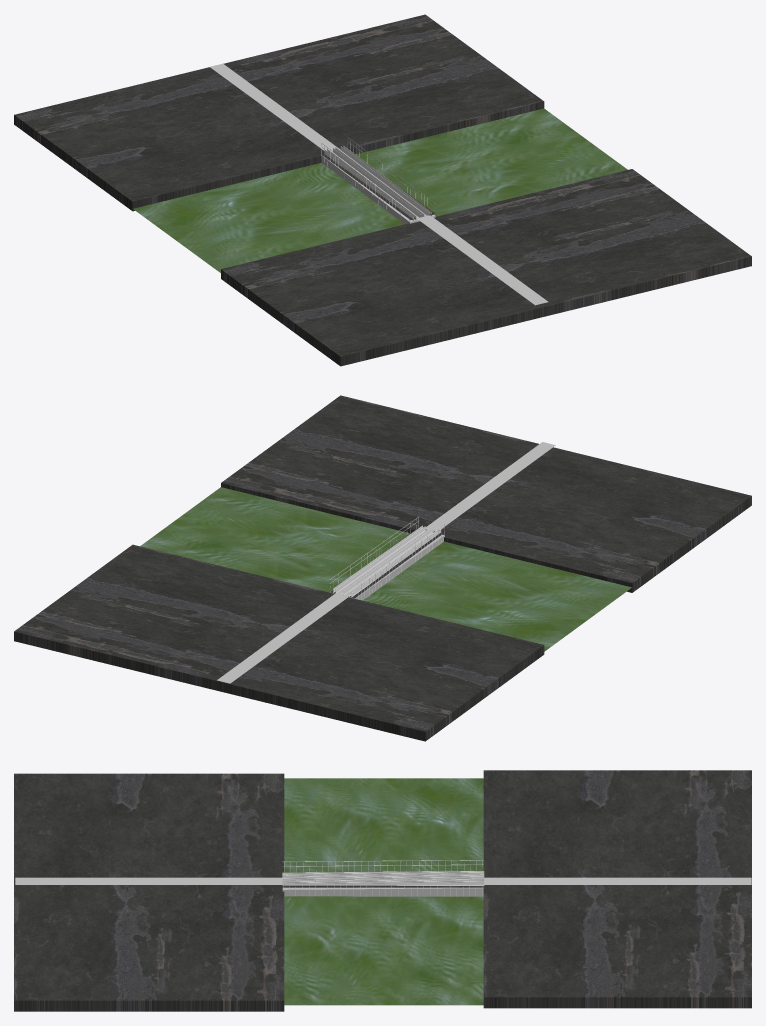
File: floor.obj
The picture shows the model from 3 angles, top to bottom: view 1: azimuth 30°, elevation 25°; view 2: azimuth 150°, elevation 25°; view 3: azimuth 270°, elevation 25°; orthographic projection. The views are drawn at different scales.
Visible parts, largest first — view 1: Pavement.001, Floor, Lake, Bridge, Road.001, Road; view 2: Floor, Pavement.001, Lake, Bridge, Road, Road.001; view 3: Pavement.001, Floor, Lake, Bridge, Road, Road.001, Sidewalk1.
Part boxes in pixels (<box>): Pavement.001: <box>221,169,751,366</box>; Floor: <box>14,14,544,211</box>; Lake: <box>133,108,627,272</box>; Bridge: <box>321,137,435,224</box>; Road.001: <box>417,215,548,305</box>; Road: <box>210,63,340,152</box>; Floor: <box>14,544,544,741</box>; Pavement.001: <box>221,395,751,592</box>; Lake: <box>140,487,631,651</box>; Bridge: <box>329,517,444,600</box>; Road: <box>217,593,348,683</box>; Road.001: <box>425,442,555,531</box>; Pavement.001: <box>14,773,284,1011</box>; Floor: <box>483,770,751,1008</box>; Lake: <box>284,778,483,1005</box>; Bridge: <box>282,860,484,896</box>; Road: <box>484,877,751,884</box>; Road.001: <box>15,877,282,884</box>; Sidewalk1: <box>282,885,483,887</box>.
Size of the model in its own units: 400 by 84.34 by 550.
